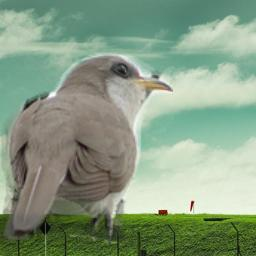Cuckoo: (0, 53, 173, 243)
